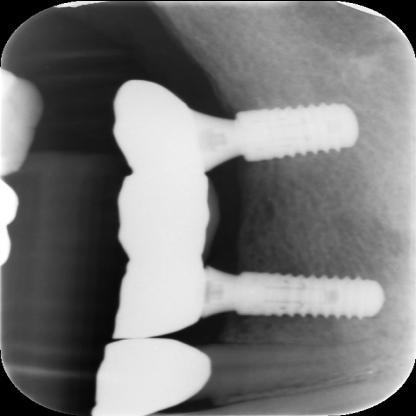ITI: (228, 256, 390, 340), (222, 89, 364, 163)
